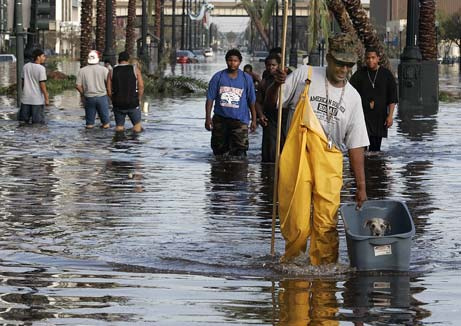person: (206, 50, 258, 161)
